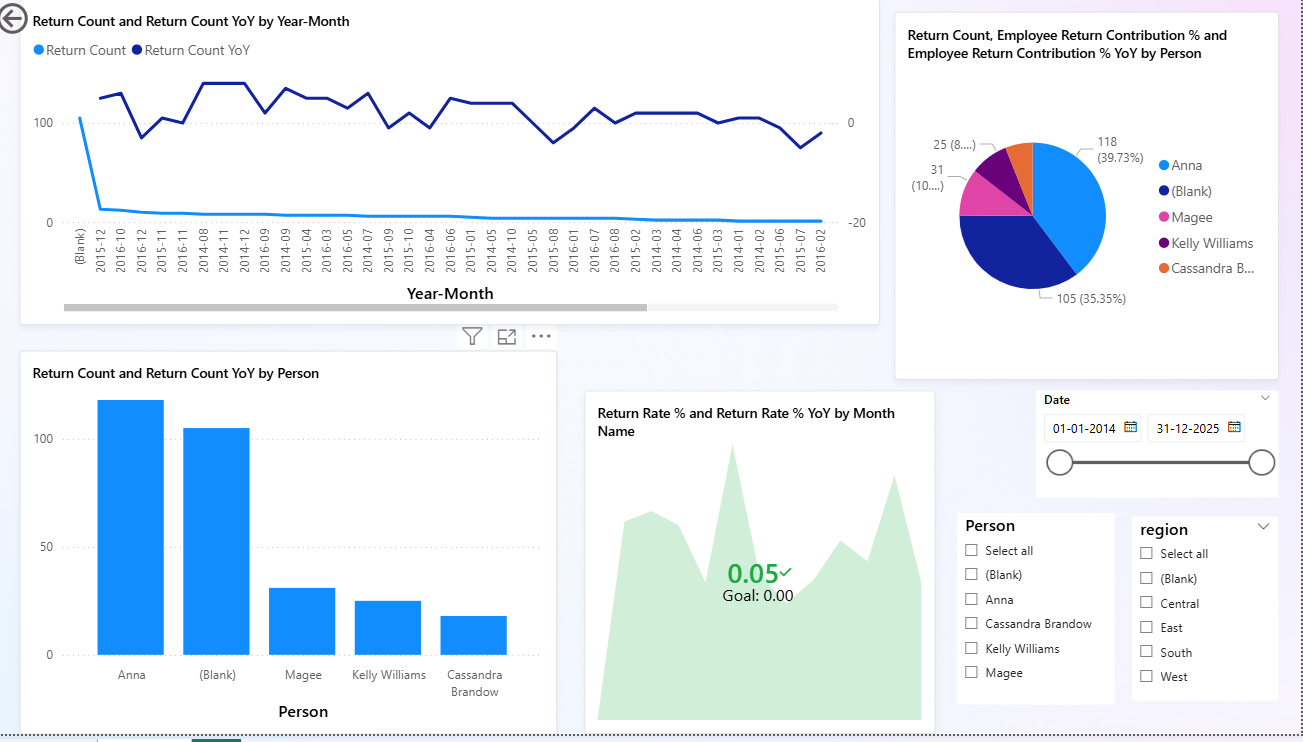

This screenshot's page, from the dashboard's own definition file:
{"tool":"powerbi","page":{"name":"Page 1","canvas":[1280,720],"ordinal":0},"visuals":[{"type":"kpi","fields":{"Indicator":["MeasureTable.Return Rate %"],"TrendLine":["DateTable.Month Name"],"Goal":["MeasureTable.Return Rate % YoY"]},"box":[580,384.3,342.9,335.7],"z":0},{"type":"columnChart","fields":{"Category":["people.Person"],"Y":["MeasureTable.Return Count"]},"box":[27.1,344.3,525.7,375.7],"z":1000},{"type":"lineChart","fields":{"Category":["DateTable.Year-Month"],"Y2":["MeasureTable.Return Count YoY"],"Y":["MeasureTable.Return Count"]},"box":[27.1,0,841.4,320],"z":2000},{"type":"pieChart","fields":{"Category":["people.Person"],"Y":["MeasureTable.Return Count"]},"box":[882.9,12.9,375.7,360],"z":3000},{"type":"slicer","fields":{"Values":["order details.region"]},"box":[1115.7,507.1,142.9,180],"z":4000},{"type":"actionButton","box":[0,0,100,40],"z":5000},{"type":"slicer","fields":{"Values":["people.Person"]},"box":[944.3,504.3,154.3,187.1],"z":6000},{"type":"slicer","fields":{"Values":["DateTable.Date"]},"box":[1021.4,384.3,237.1,104.3],"z":7000}]}

Visuals, with their boxes on the page's 1280x720 design canvas (x1, y1, x2, y2). These are canvas units, not pixel positions in the 1303x742 screenshot, which may show the page scaled, cropped or inside an application window:
kpi - MeasureTable.Return Rate % x DateTable.Month Name: 580,384,923,720
columnChart - people.Person x MeasureTable.Return Count: 27,344,553,720
lineChart - DateTable.Year-Month x MeasureTable.Return Count YoY: 27,0,868,320
pieChart - people.Person x MeasureTable.Return Count: 883,13,1259,373
slicer - order details.region: 1116,507,1259,687
actionButton: 0,0,100,40
slicer - people.Person: 944,504,1099,691
slicer - DateTable.Date: 1021,384,1258,489
